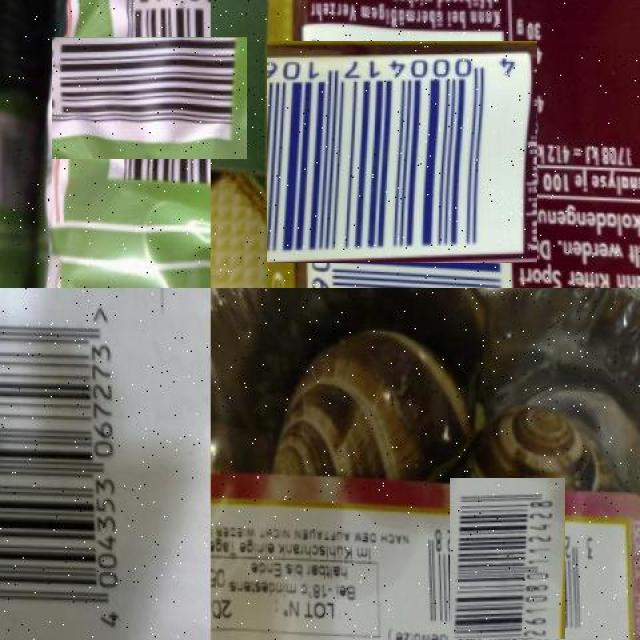Barcode: (279, 29, 525, 276), (0, 288, 165, 640), (70, 18, 229, 177), (430, 497, 584, 640)
